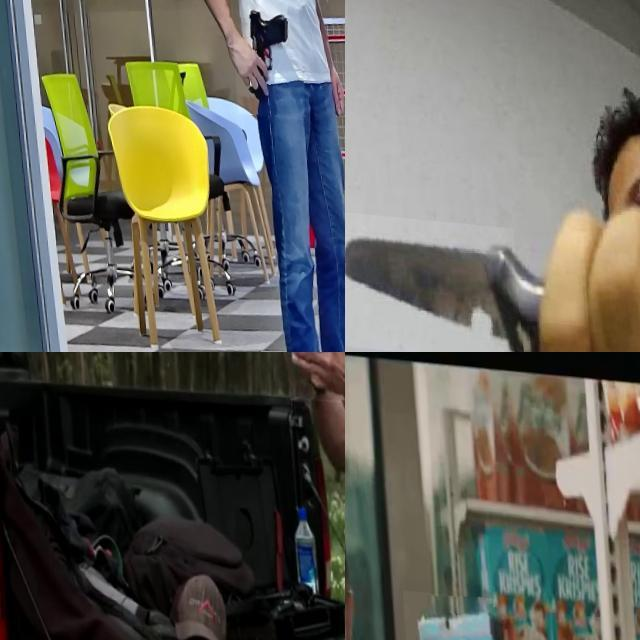-: (345, 205, 515, 352)
gun-knife-thesis - v11 Yolov5 augmented: (227, 0, 301, 113), (249, 352, 340, 429), (398, 585, 502, 640)
